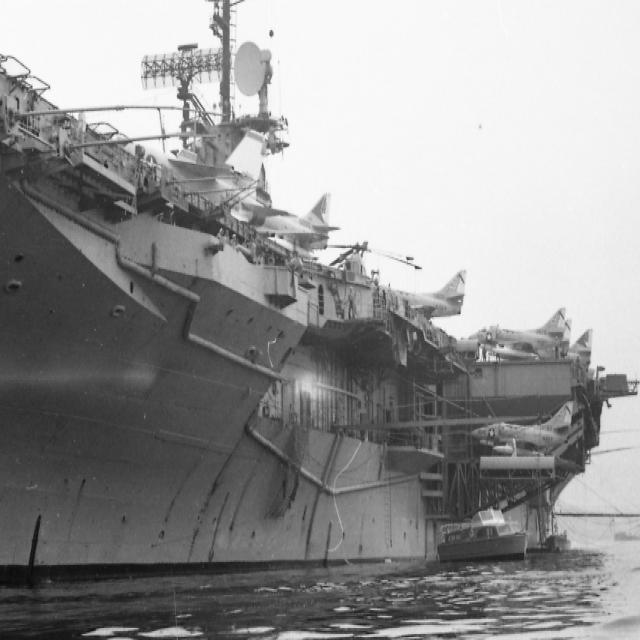Portanaves: (1, 1, 626, 560)
